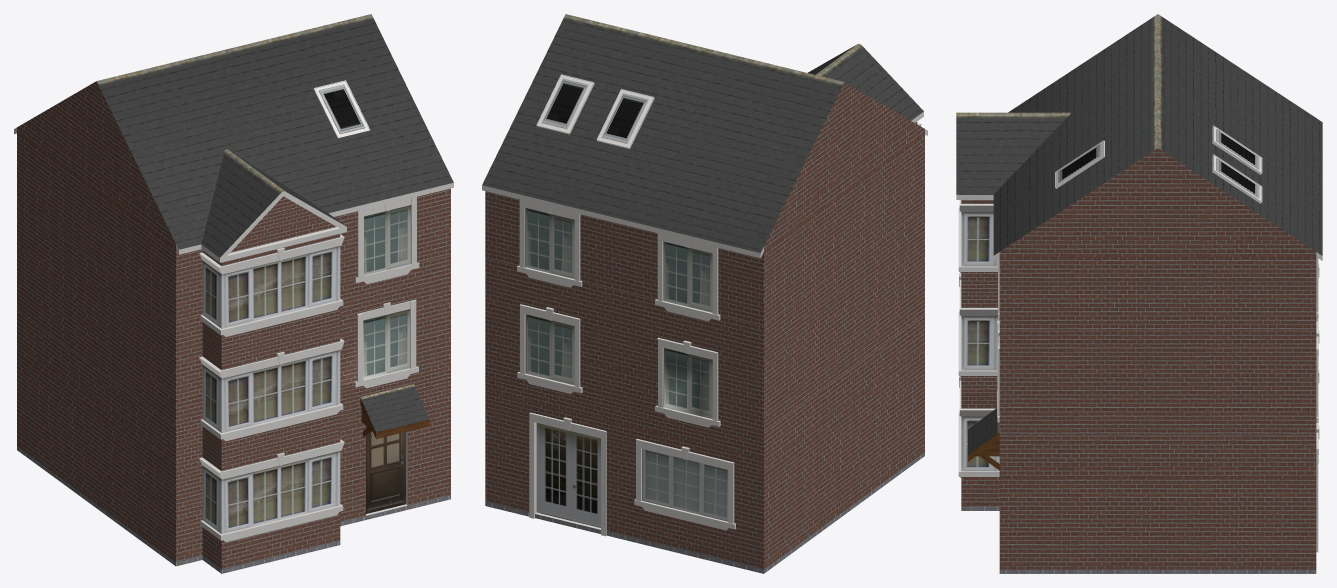
File: modernterrace3story4.FBX
3 views of the same model, side by side, from view 1: azimuth 30°, elevation 25°; view 2: azimuth 150°, elevation 25°; view 3: azimuth 270°, elevation 25° (orthographic).
Parts seen in each view (by area): view 1: Box001; view 2: Box001; view 3: Box001.
Boxes of the visible parts, box(x1,y1,x2,y2) form: Box001: box(14, 14, 453, 573); Box001: box(482, 14, 927, 573); Box001: box(956, 14, 1322, 573).
Size of the model in its own units: 800 by 1188 by 925.
